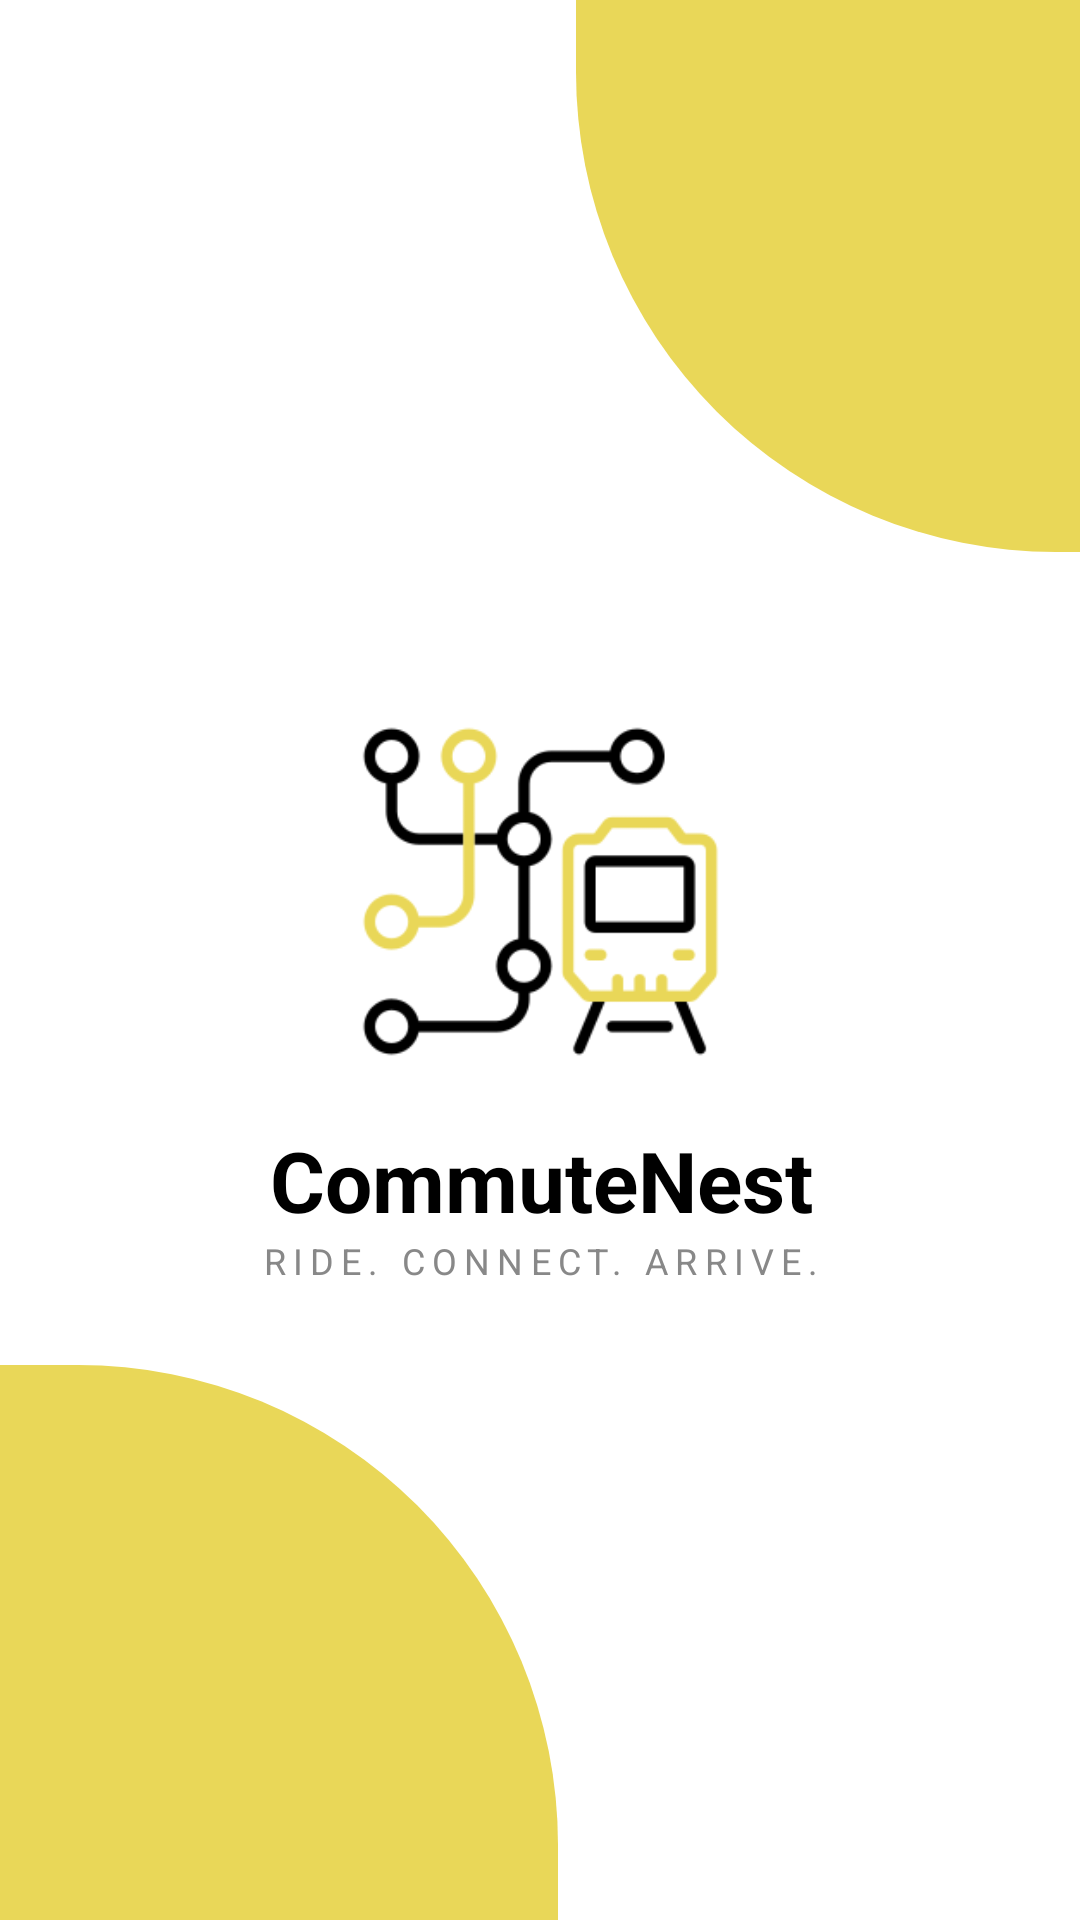

Where to tap for icons on this 1080px x 1920px app screen, as point (x, y):
subway: point (540, 891)
